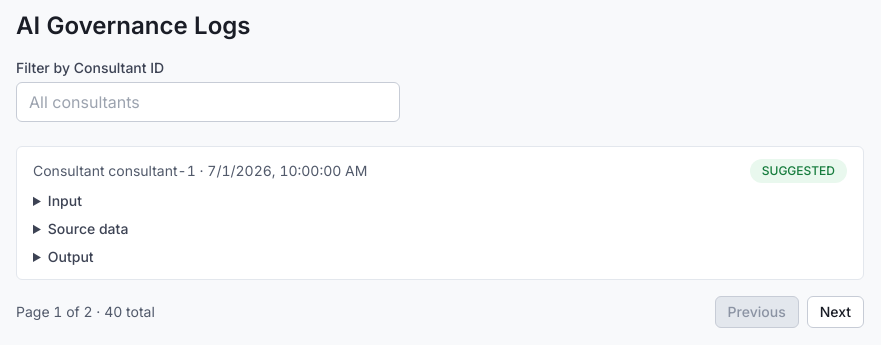
Scenario: AiGovernanceLogViewer › paginates using Next/Previous, disabled at the bounds
Expected: the text "Page 1 of 2 · 40 total" is shown, [16,302,155,322]
Expected: the button "Previous" is disabled, [715,296,799,328]
Click the button "Next" at point(835, 312), box [807,296,864,328]
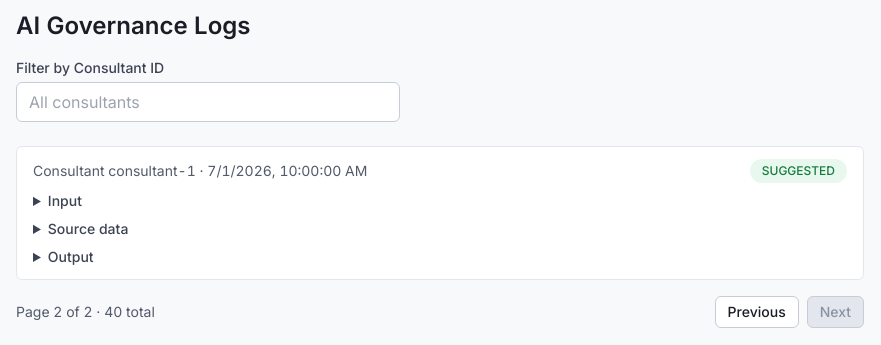
Result: the text "Page 2 of 2 · 40 total" is shown at [16,302,155,322]
Result: the button "Next" is disabled at [807,296,864,328]
